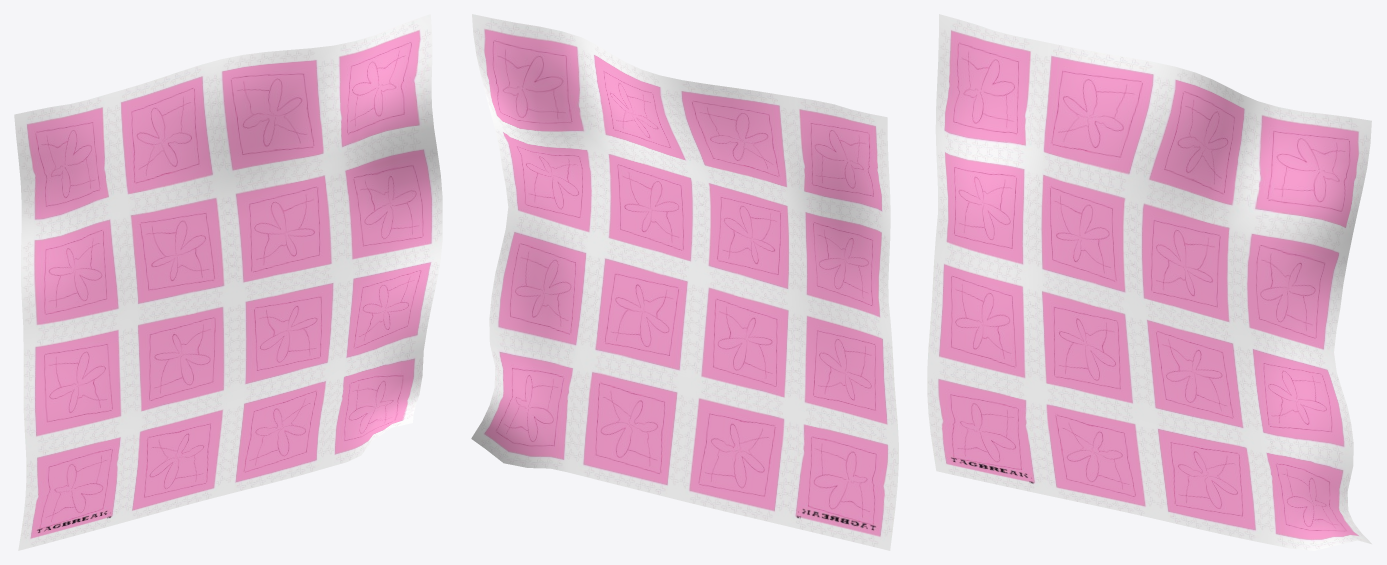
Rendered from heart.glb.
3 renders of one model, left to right at view 1: azimuth 30°, elevation 25°; view 2: azimuth 150°, elevation 25°; view 3: azimuth 330°, elevation 25°, orthographic. The views are drawn at different scales.
Parts seen in each view (by area): view 1: Plane; view 2: Plane; view 3: Plane.
Boxes of the visible parts, x1,y1,x2,y2 form: Plane: (14,14,442,550); Plane: (471,14,898,550); Plane: (927,14,1371,550).
Bounding box in the file's own units: 2 × 2 × 0.3129.
1 material, 1 textured.
